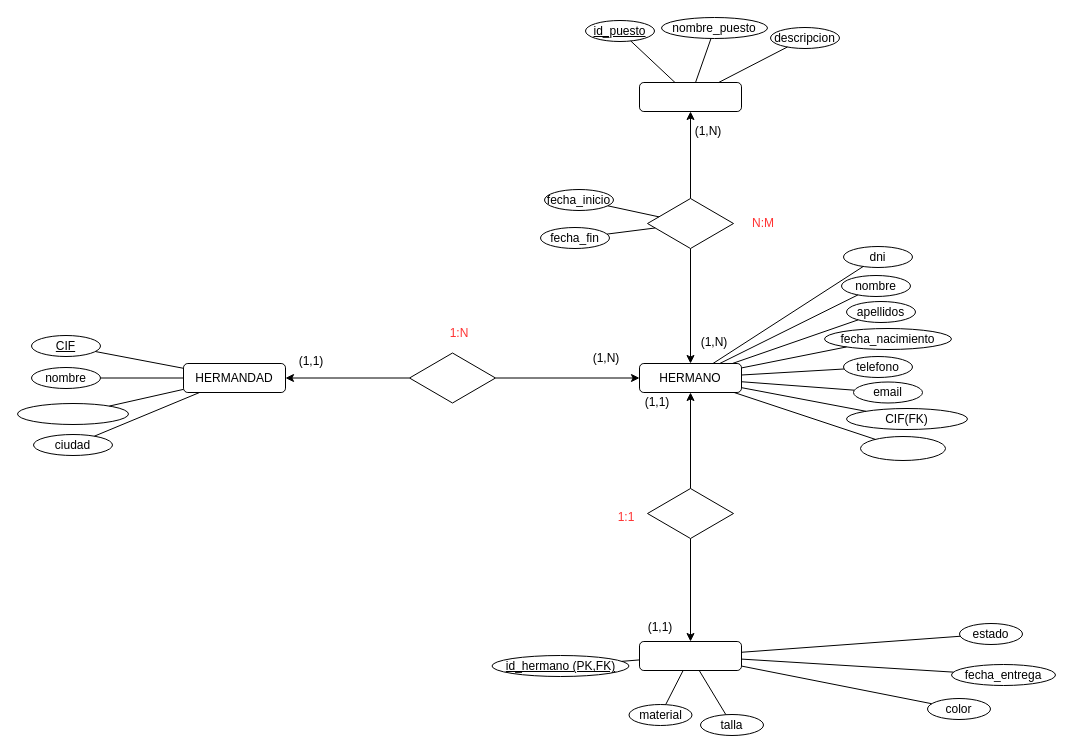
This 1073x753 diagram has some shape labels left out. The shapes that lost their labels are listed below. From the top down, each one's box as (x1, y1, x2, y2) in pixels, then its label:
(638, 82, 742, 112): PUESTO
(646, 198, 734, 248): ocupa
(408, 352, 496, 403): pertenece
(16, 402, 128, 424): fecha_fundacion
(860, 436, 946, 460): id_hermano
(646, 488, 734, 538): tiene
(638, 640, 742, 670): TUNICA
